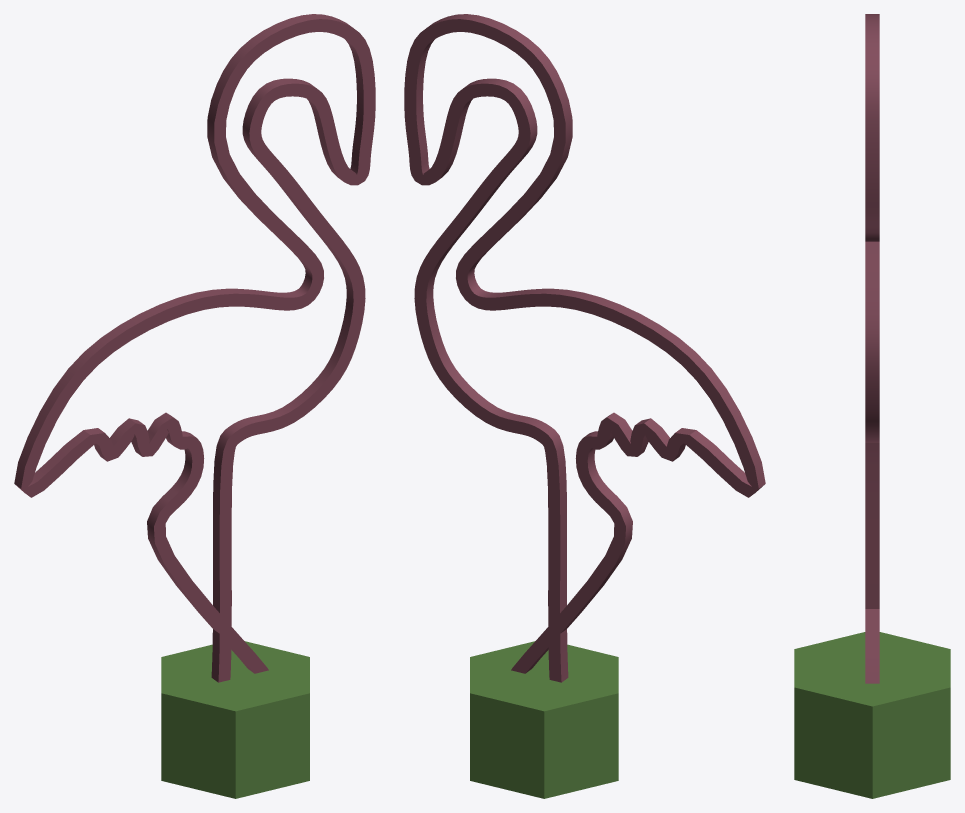
Rendered from flamingo.fbx.
3 views of the same model, side by side, from view 1: azimuth 30°, elevation 25°; view 2: azimuth 150°, elevation 25°; view 3: azimuth 270°, elevation 25° (orthographic). The views are drawn at different scales.
Parts seen in each view (by area): view 1: flamingo1; view 2: flamingo1; view 3: flamingo1.
Part boxes in pixels (bbox=[...]): flamingo1: bbox=[14, 14, 375, 798]; flamingo1: bbox=[404, 14, 765, 798]; flamingo1: bbox=[794, 14, 950, 798].
Size of the model in its own units: 1.13 by 2.22 by 0.411.
